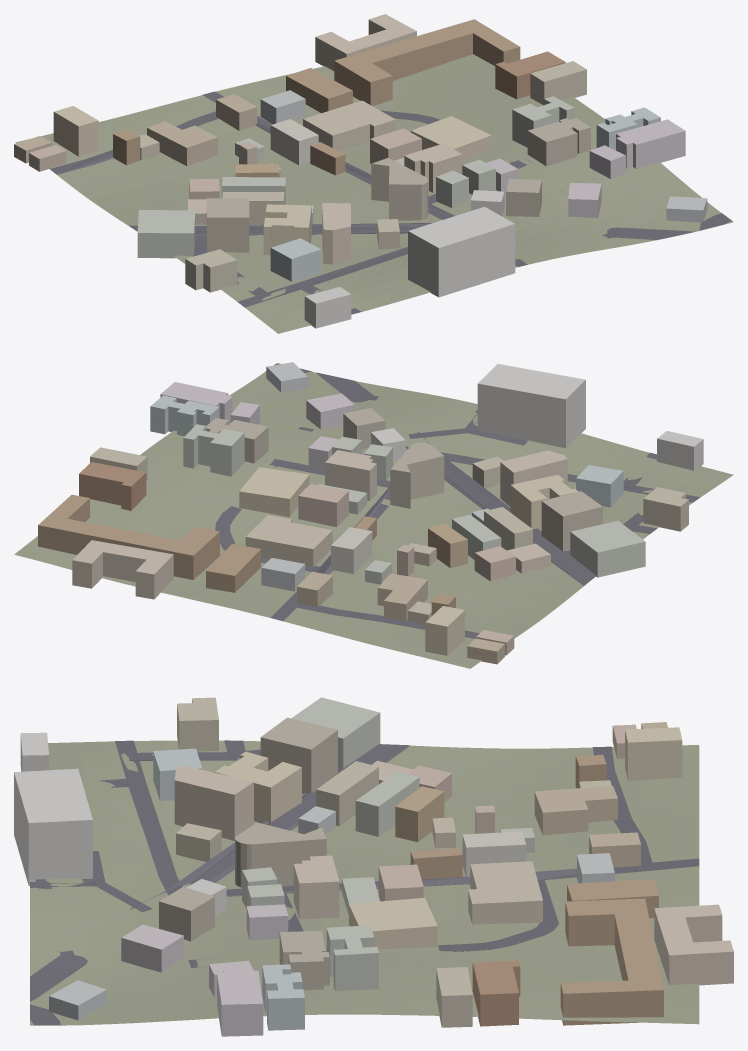
Rendered from chunk_5_8.glb.
3 views of the same model, one above another, from view 1: azimuth 30°, elevation 25°; view 2: azimuth 150°, elevation 25°; view 3: azimuth 270°, elevation 25° (orthographic). The views are drawn at different scales.
Parts seen in each view (by area): view 1: geometry_51, geometry_0, geometry_30, geometry_19, geometry_32, geometry_5, geometry_45, geometry_31, geometry_7, geometry_23, geometry_18, geometry_46 (+37 smaller); view 2: geometry_51, geometry_0, geometry_30, geometry_31, geometry_5, geometry_61, geometry_19, geometry_32, geometry_46, geometry_14, geometry_7, geometry_1 (+37 smaller); view 3: geometry_51, geometry_30, geometry_0, geometry_31, geometry_4, geometry_19, geometry_7, geometry_61, geometry_32, geometry_46, geometry_18, geometry_2 (+40 smaller).
Boxes of the visible parts, x1,y1,x2,y2 form: geometry_51: (15,54,733,333); geometry_0: (408,206,515,297); geometry_30: (334,19,520,106); geometry_19: (303,100,395,151); geometry_32: (371,158,428,220); geometry_5: (137,210,195,258); geometry_45: (616,119,685,168); geometry_31: (315,14,416,70); geometry_7: (206,198,249,252); geometry_23: (527,118,590,166); geometry_18: (147,121,217,165); geometry_46: (411,116,491,161); geometry_51: (14,363,733,668); geometry_0: (477,364,585,448); geometry_30: (38,494,219,579); geometry_31: (72,540,173,599); geometry_5: (570,520,645,577); geometry_61: (317,372,596,585); geometry_19: (245,515,332,567); geometry_32: (390,442,444,508); geometry_46: (239,467,309,517); geometry_14: (183,424,244,476); geometry_7: (541,491,602,551); geometry_1: (79,462,146,510); geometry_51: (30,740,699,1025); geometry_30: (560,898,663,1025); geometry_0: (14,768,92,885); geometry_31: (654,904,733,985); geometry_4: (174,765,253,840); geometry_19: (468,861,542,924); geometry_7: (260,717,337,793); geometry_61: (30,744,410,1001); geometry_32: (235,822,326,887); geometry_46: (349,897,437,949); geometry_18: (534,785,617,835); geometry_2: (214,751,301,823).
Bounding box in the file's own units: 279 × 30.19 × 269.
